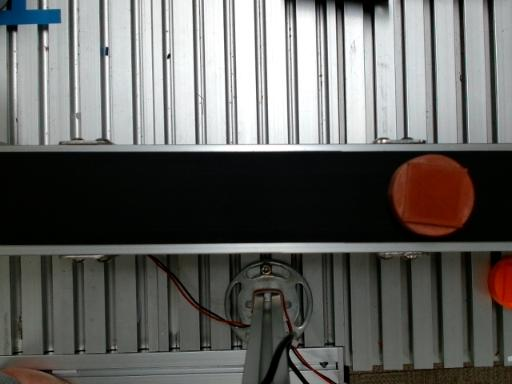Brown_Waper: (388, 154, 474, 236)
Square: (400, 162, 467, 227)
